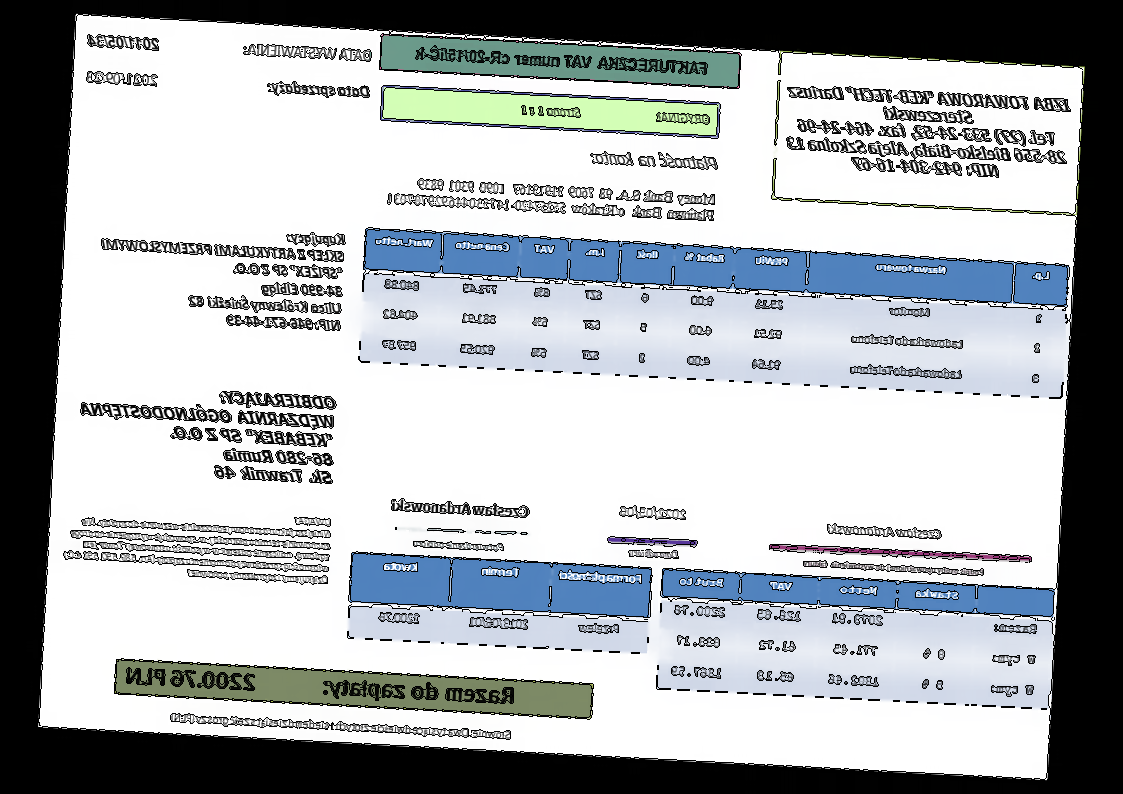Table: (356, 225, 1071, 401), (655, 566, 1057, 711), (346, 549, 654, 656)
TextBox: (782, 79, 1074, 186), (93, 217, 349, 335), (74, 381, 339, 488), (61, 500, 334, 588), (123, 663, 518, 710), (384, 172, 720, 224), (168, 709, 515, 744), (412, 42, 710, 78), (519, 99, 714, 128), (800, 556, 988, 579), (388, 494, 533, 521), (588, 146, 722, 174), (242, 39, 375, 65), (824, 518, 944, 542), (265, 77, 372, 102), (411, 536, 508, 555), (84, 30, 162, 53), (84, 67, 161, 89), (619, 503, 689, 523), (627, 546, 683, 561)
